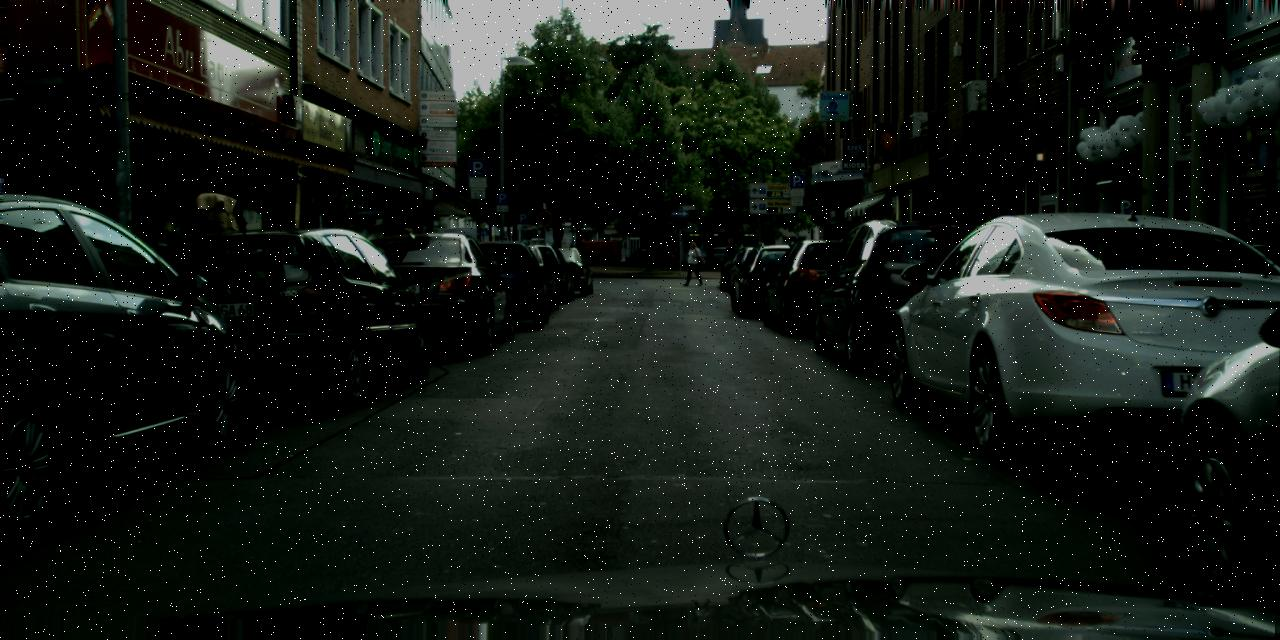ped: (162, 191, 229, 355), (0, 184, 57, 353), (392, 227, 429, 319), (683, 240, 701, 286), (722, 237, 739, 281), (733, 239, 745, 269)
